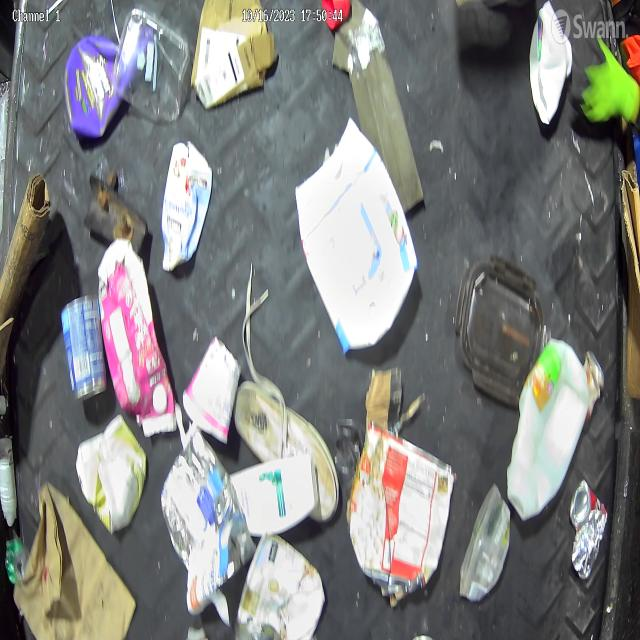can: (61, 292, 108, 403), (569, 480, 608, 582), (584, 348, 606, 420)
milk_jug: (296, 115, 420, 357), (507, 338, 589, 524), (529, 1, 573, 125)
non_white_jug: (347, 420, 456, 610), (96, 238, 178, 438), (76, 414, 148, 536), (161, 138, 214, 274), (64, 33, 132, 137)
plastic_bottle: (162, 427, 236, 567), (113, 6, 191, 122), (459, 483, 512, 603)
